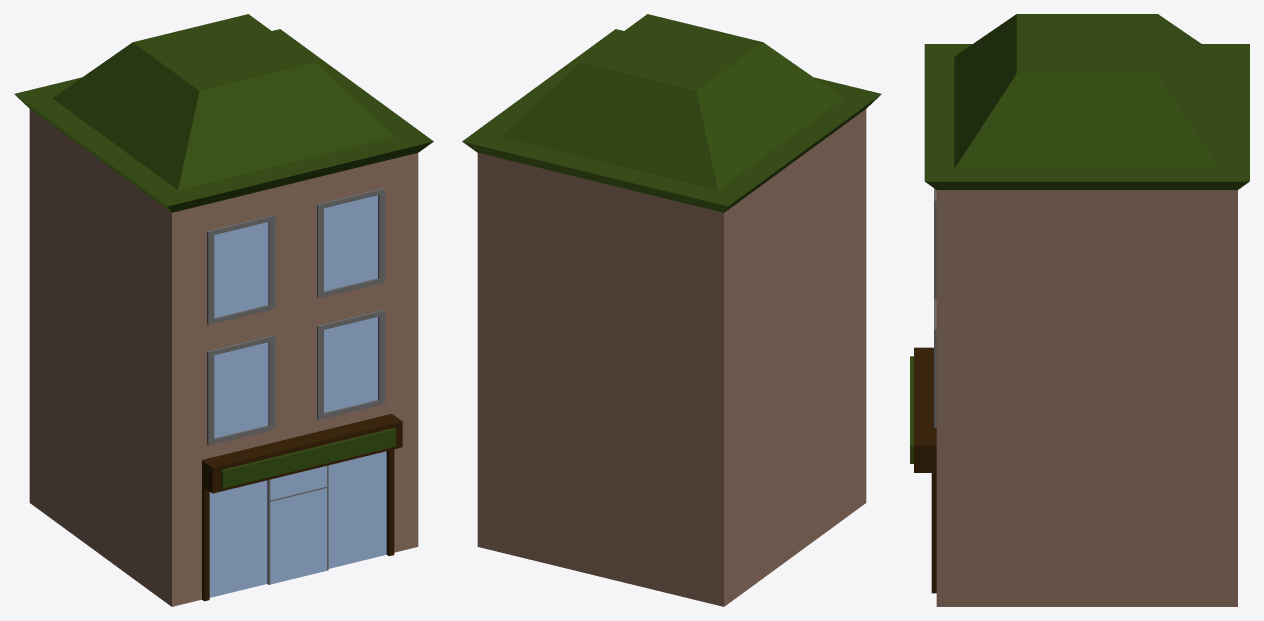
File: House3Fixed.fbx
3 renders of one model, left to right at view 1: azimuth 30°, elevation 25°; view 2: azimuth 150°, elevation 25°; view 3: azimuth 270°, elevation 25°, orthographic. The views are drawn at different scales.
Visible parts, largest first — view 1: House3Lvl1; view 2: House3Lvl1; view 3: House3Lvl1.
Boxes of the visible parts, x1,y1,x2,y2 form: House3Lvl1: (14,14,433,606); House3Lvl1: (462,14,881,606); House3Lvl1: (910,14,1249,606).
Size of the model in its own units: 89.13 by 151 by 93.14.
